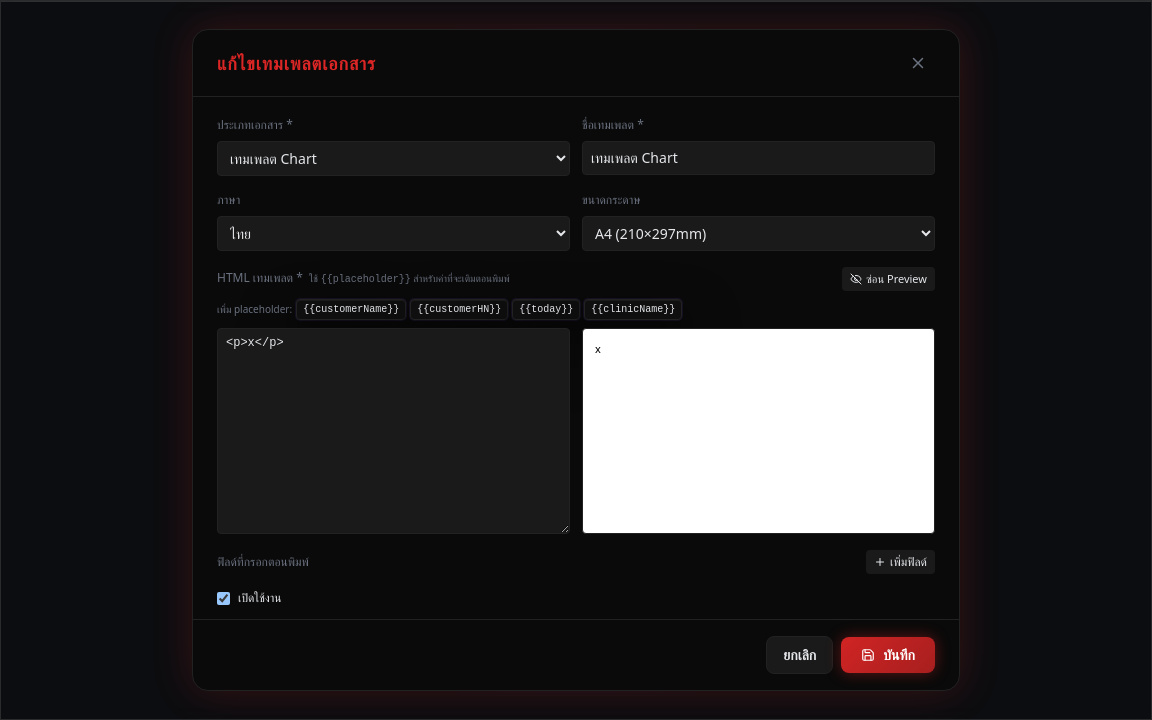
Test case: T5A.B — RTL designer behavior › B.2 toggle button hides + shows preview pane
The width and height of the screenshot is (1152, 720).
Expected: the element with test id "template-live-preview" is shown, [582, 328, 935, 534]
Click the button with test id "template-preview-toggle": (888, 279) [842, 267, 935, 291]
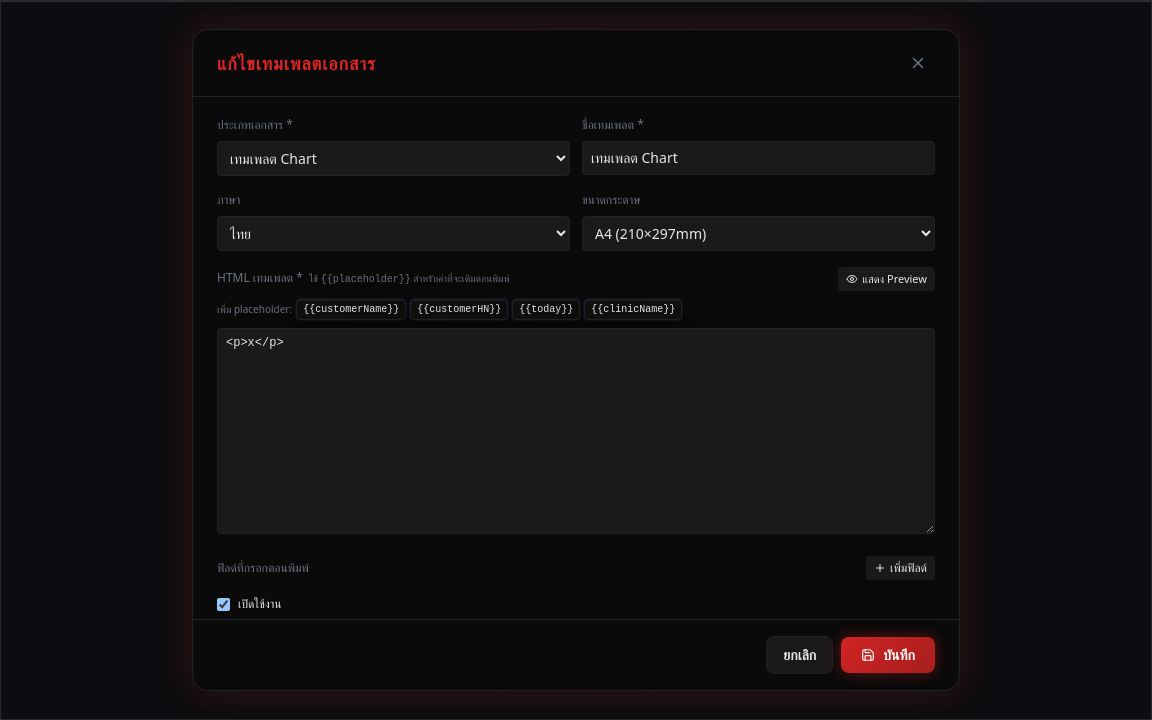
Expected: the element with test id "template-live-preview" is gone
Click the button with test id "template-preview-toggle": (887, 279) [838, 267, 935, 291]
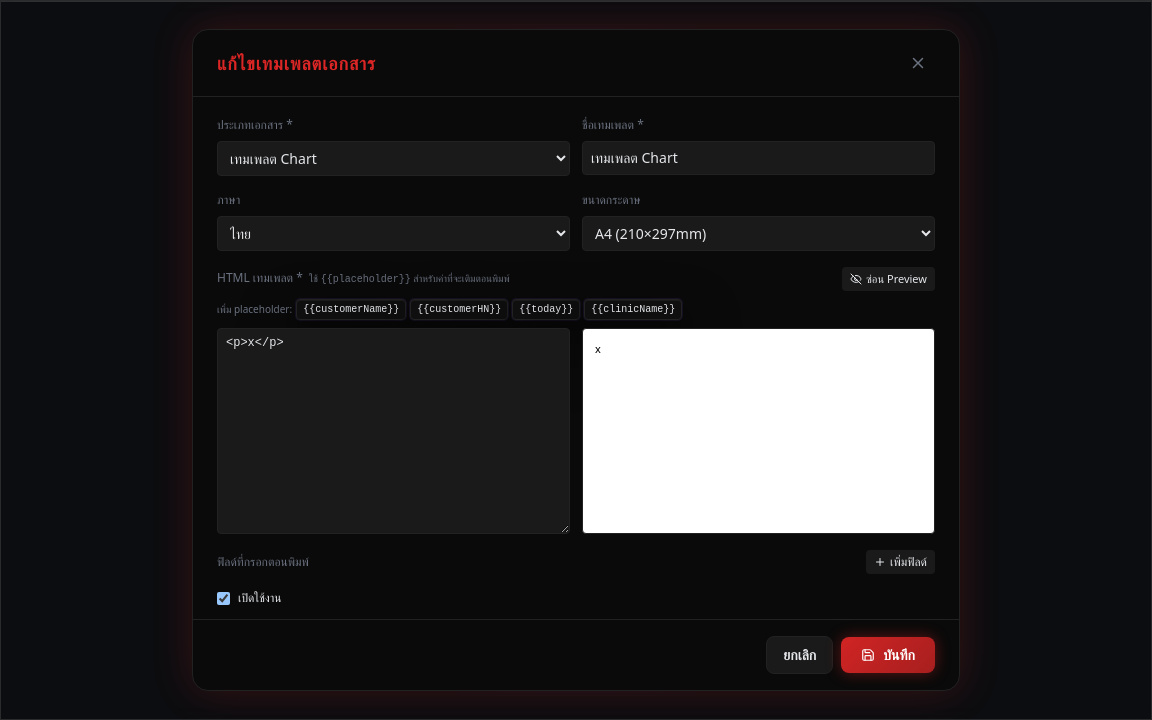
Expected: the element with test id "template-live-preview" is shown, [582, 328, 935, 534]
